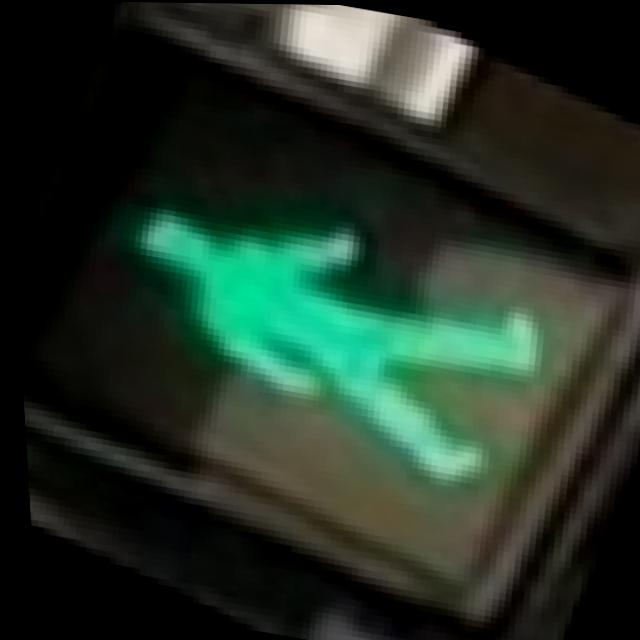green_light: (39, 103, 599, 557)
